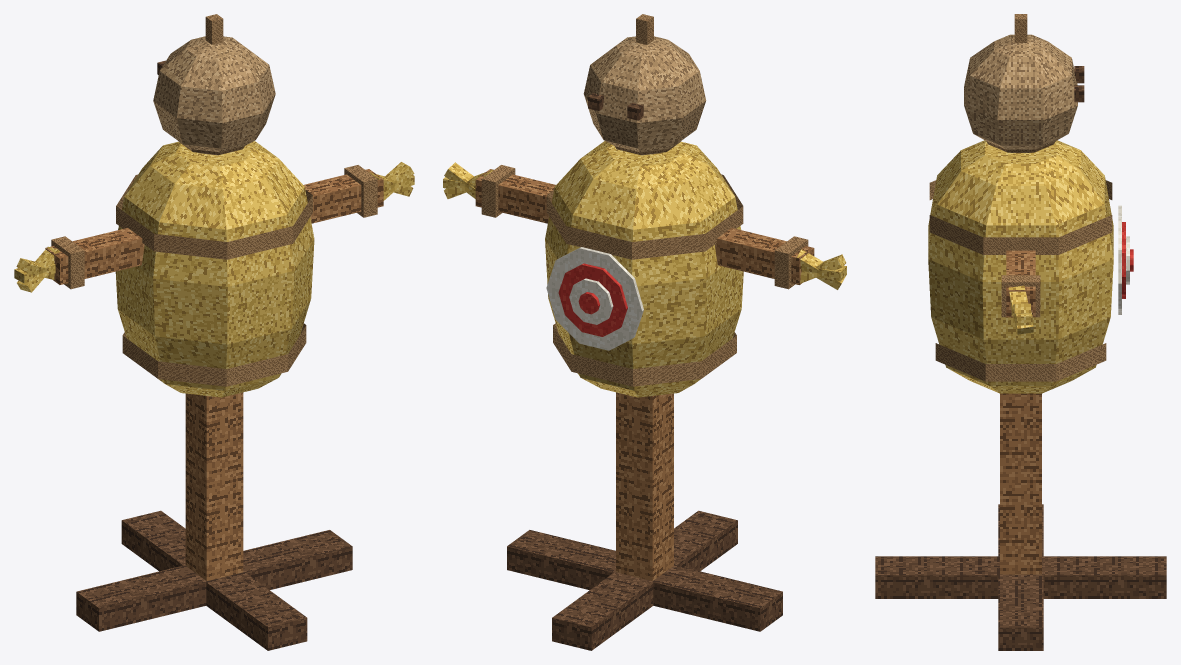
The model's file is target_dummy.glb.
3 views of the same model, side by side, from view 1: azimuth 30°, elevation 25°; view 2: azimuth 150°, elevation 25°; view 3: azimuth 270°, elevation 25° (orthographic).
Parts seen in each view (by area): view 1: TargetDummy; view 2: TargetDummy; view 3: TargetDummy.
Part boxes in pixels (x1,y1,x2,y2): TargetDummy: [14, 14, 414, 650]; TargetDummy: [443, 14, 846, 650]; TargetDummy: [875, 14, 1166, 650].
Size of the model in its own units: 1.41 by 1.95 by 0.9.
Materials: 7 (7 with a texture image).
